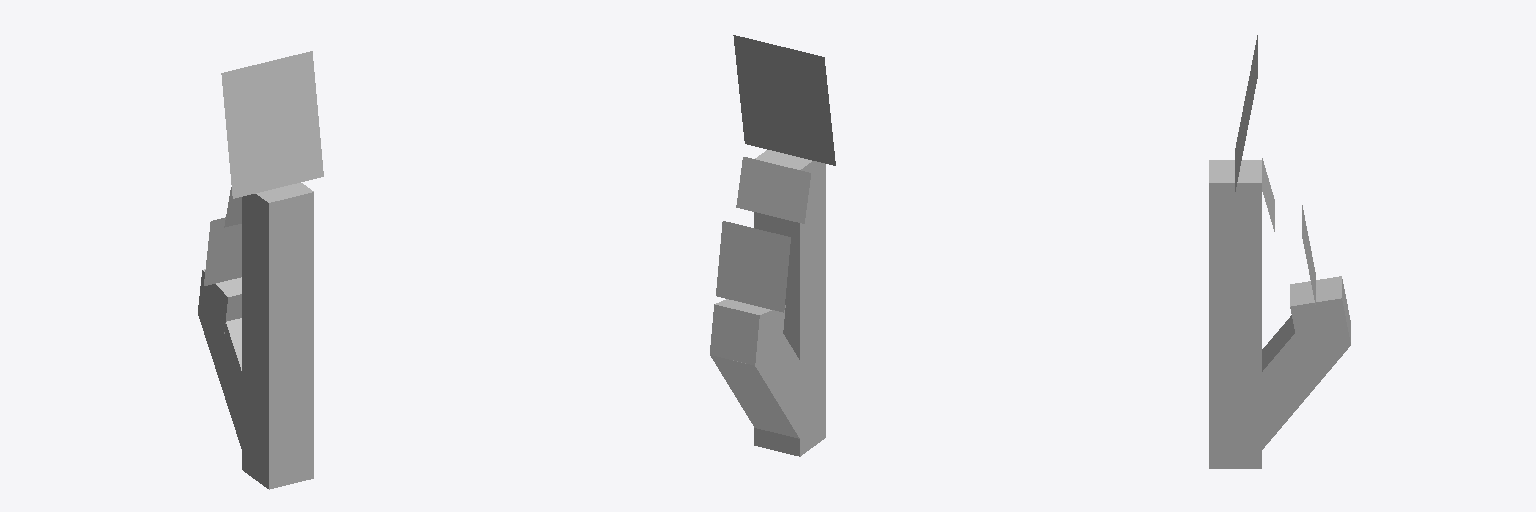
File: snail_sculpture.obj
The picture shows the model from 3 angles: view 1: azimuth 30°, elevation 25°; view 2: azimuth 150°, elevation 25°; view 3: azimuth 270°, elevation 25°; orthographic projection.
Parts seen in each view (by area): view 1: cube; view 2: cube; view 3: cube.
Boxes of the visible parts, <box> form: cube: <box>198,51,323,489</box>; cube: <box>710,35,835,456</box>; cube: <box>1209,35,1350,468</box>.
Size of the model in its own units: 0.25 by 1.06 by 0.3376.